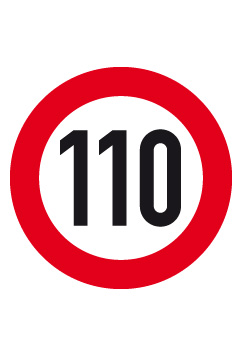Speed_limit_110km: (11, 67, 233, 290)
